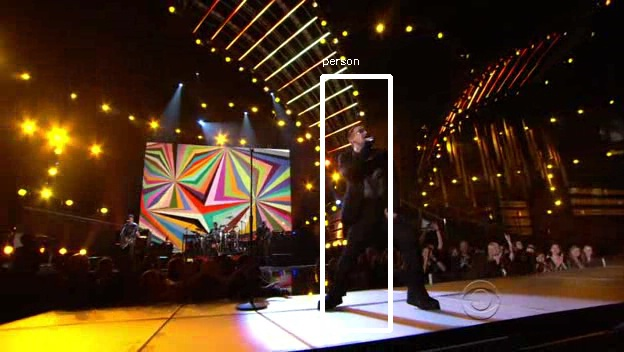person: (336, 124, 403, 240), (333, 124, 400, 240), (339, 124, 406, 240), (336, 121, 403, 237), (336, 127, 403, 243)
target_negative: (214, 24, 597, 335), (313, 256, 455, 315), (377, 286, 471, 332), (118, 215, 250, 232), (539, 250, 551, 343), (200, 50, 218, 98)
